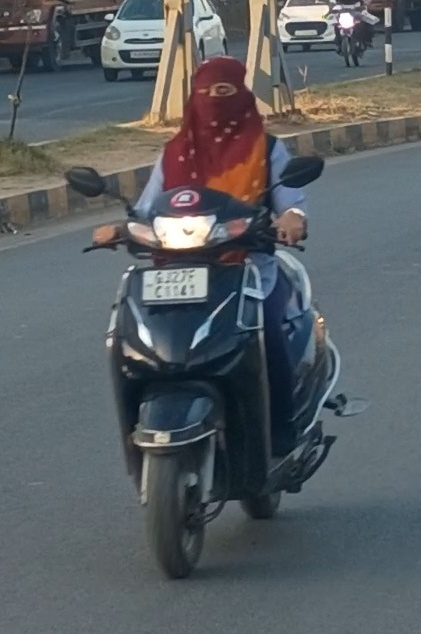BikeWithRider: (58, 51, 377, 586)
NoHelmet: (181, 51, 258, 132)
